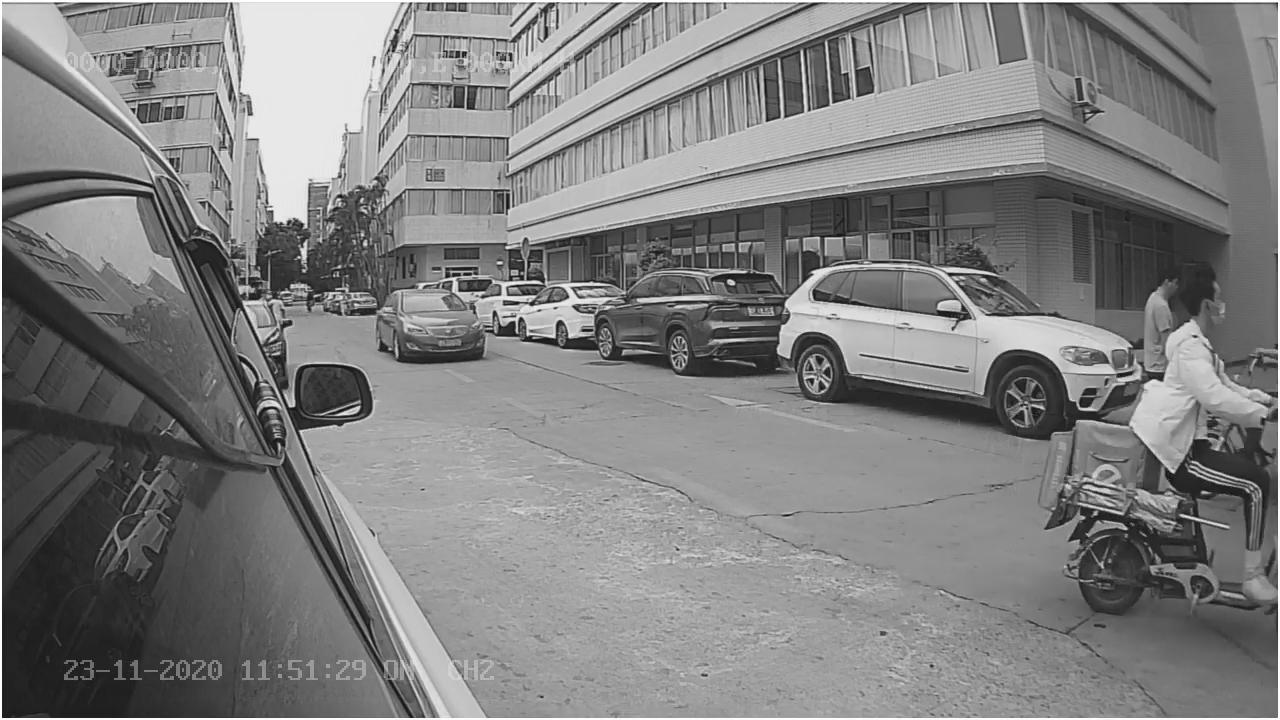person: (1155, 263, 1277, 420)
